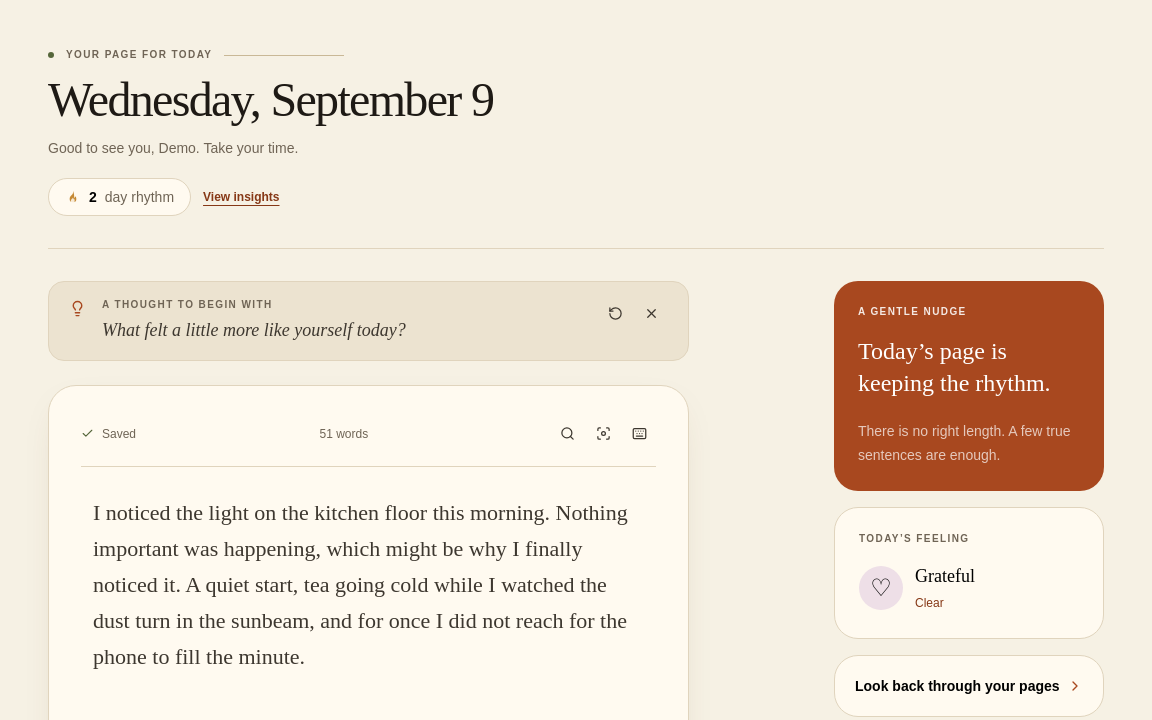
Today editor › search signpost opens the command palette
The image size is (1152, 720).
Click the button with test id "editor-search-button": (568, 434) [552,418,584,450]
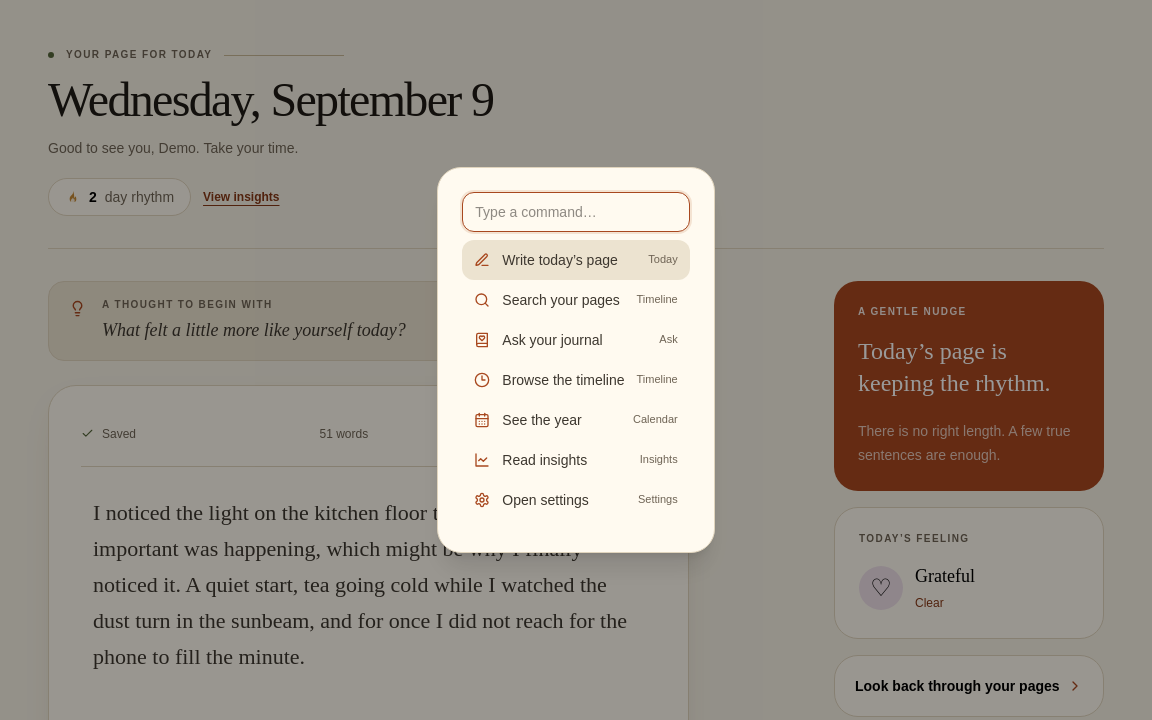
Result: the element with test id "command-palette" is shown at [437,167,715,553]
